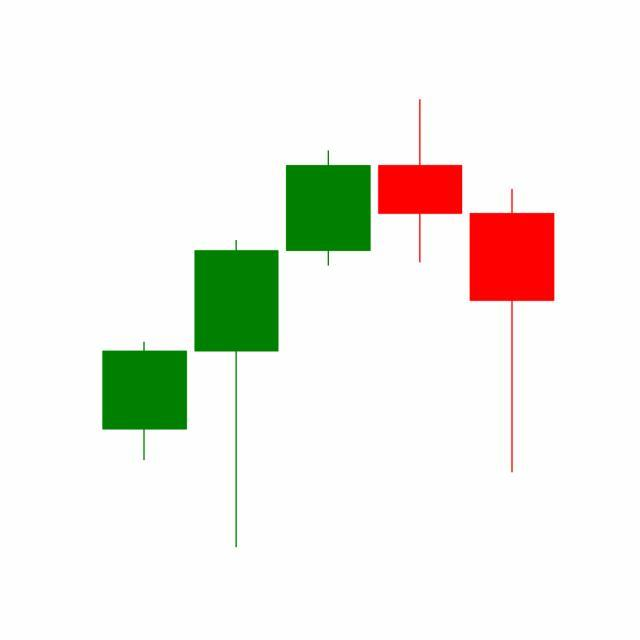Spinning Top: (374, 97, 468, 265)
